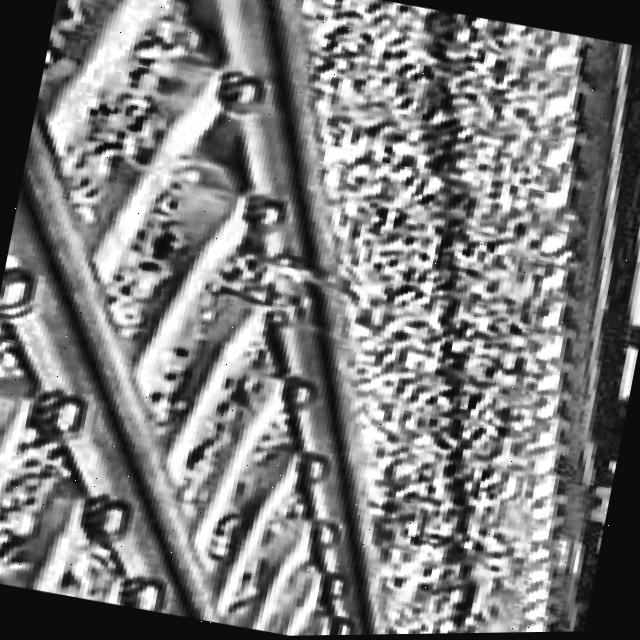Gerbong: (445, 33, 640, 635), (527, 584, 591, 634)
